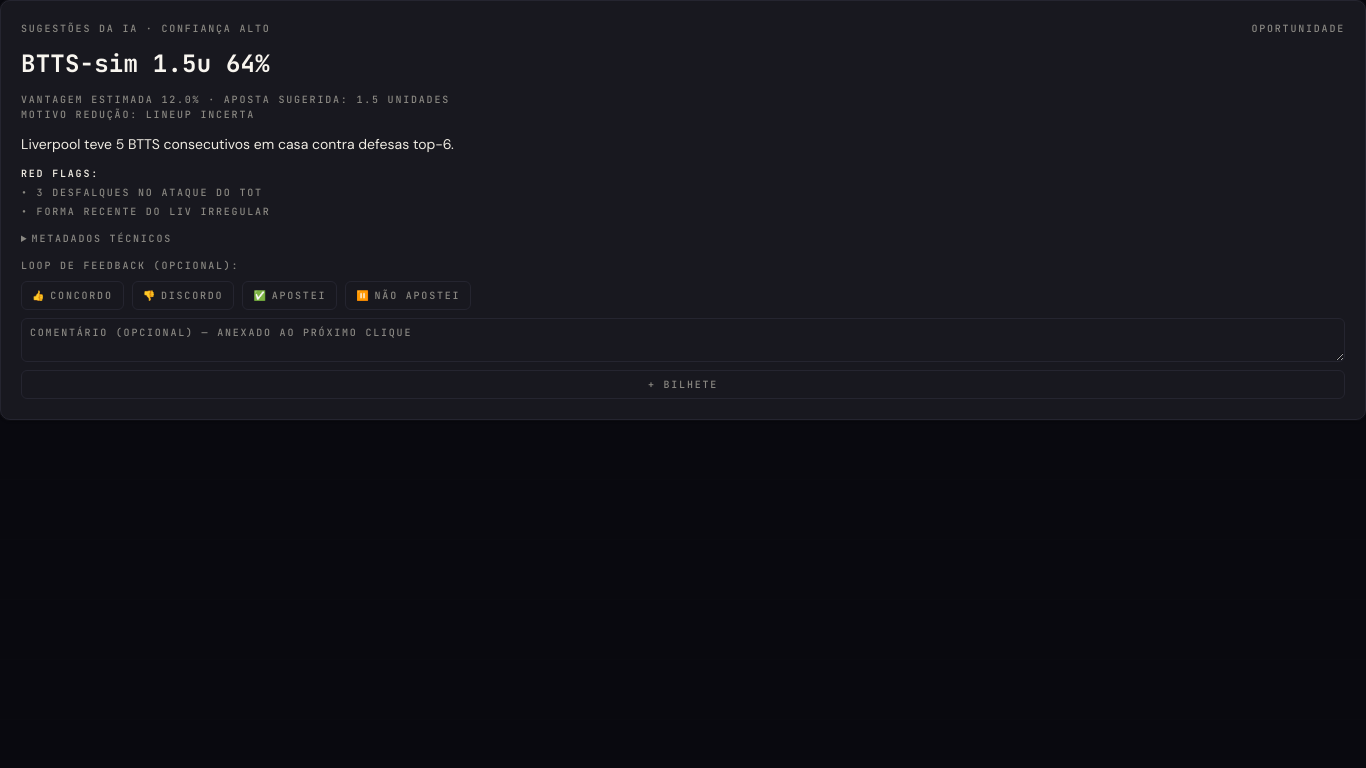
Scenario: <AiRecoPanel> feedback loop — bet card › A2: clicking 'Apostei' opens the confirmation modal (no direct POST to /feedback)
Click the button "✅ Apostei" at (290, 296), box [242,281,337,310]
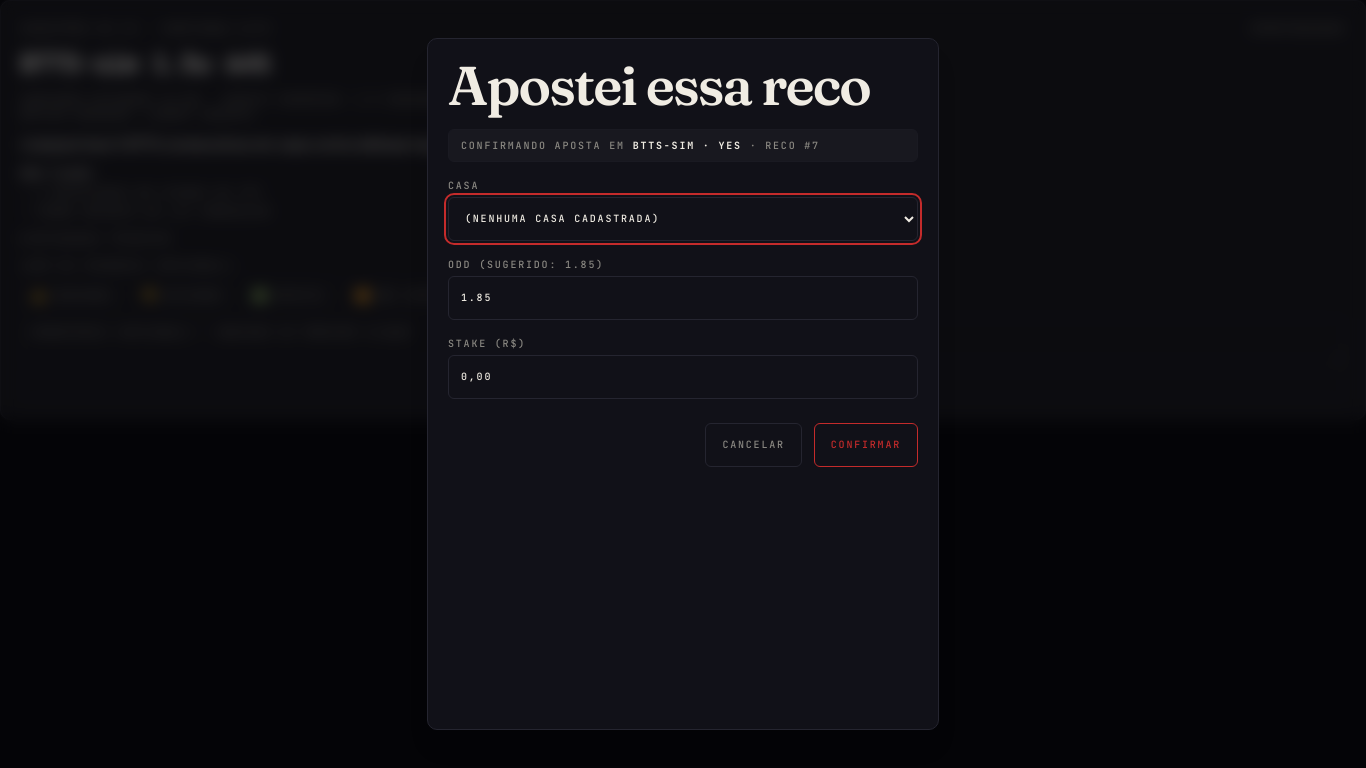
Now the dialog is shown, box [427,38,939,730]
